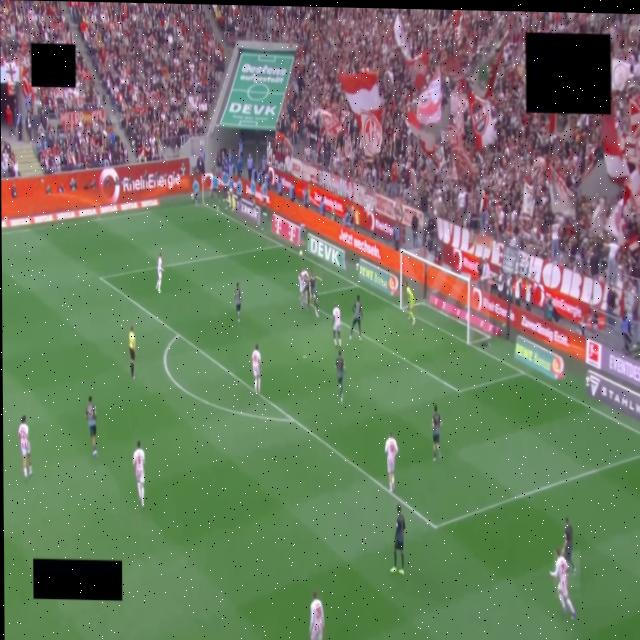ball: (299, 251, 302, 256)
player: (550, 549, 575, 619), (391, 505, 405, 574), (18, 416, 32, 479), (563, 517, 576, 574), (385, 433, 397, 493), (133, 441, 144, 506), (310, 591, 324, 639), (86, 396, 96, 457), (349, 296, 362, 340), (432, 404, 441, 461), (336, 351, 345, 403), (308, 272, 318, 318), (252, 344, 261, 394), (332, 304, 341, 347), (405, 281, 414, 324), (298, 271, 308, 309), (234, 282, 241, 322), (156, 253, 163, 292)
referee: (128, 326, 136, 378)
